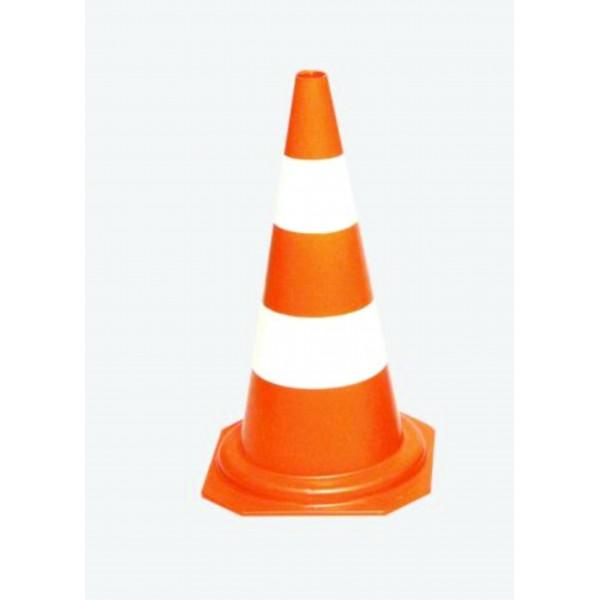traffic_cone: (200, 68, 436, 518)
